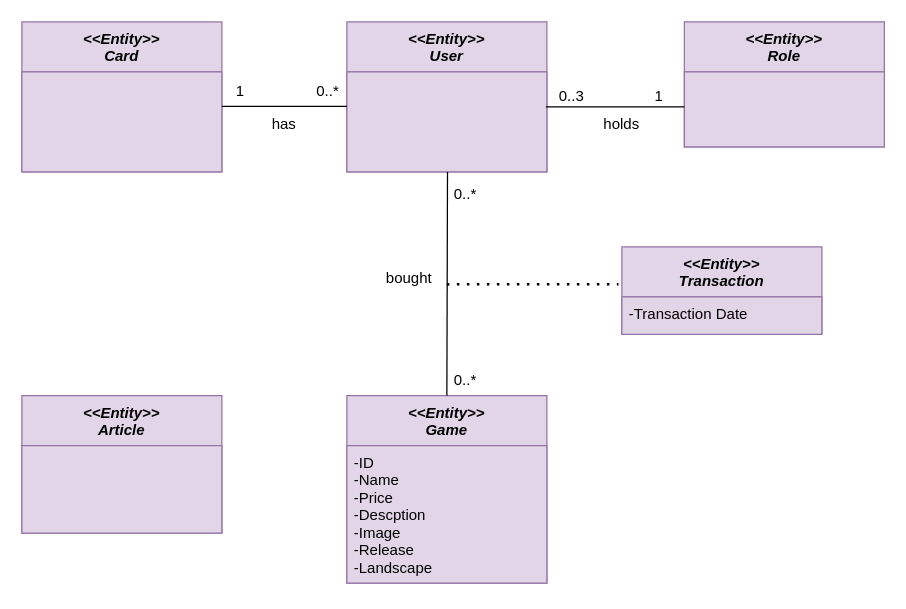
The diagram is 906 pixels wide and 609 high, and some of its shapes have lost their labels. The box of each missing label's shape, as (x1, y1, x2, y2) in pixels:
-ID -Name -Email -Password -Session: (346, 71, 547, 172)
-ID -Title -Short Title -Content: (21, 444, 222, 533)
-ID -Type -Number -Card owner -Card date: (21, 71, 222, 172)
-User ID -Role Name -Parsed Role Name: (683, 71, 884, 147)
